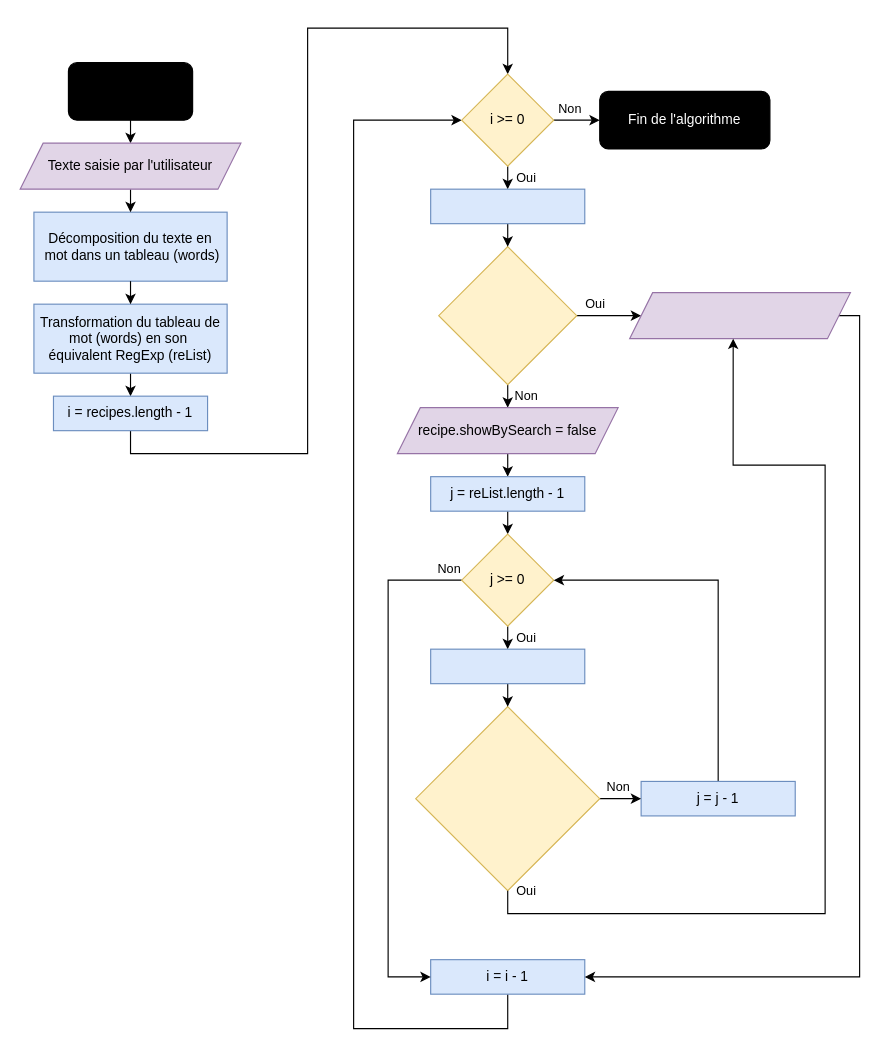
Image size: 889x1058. Some labels were removed from this diagram. The box of each missing label's shape, as (x1, y1, x2, y2) in pixels:
Début: (67, 62, 193, 120)
re = reList[j]: (430, 648, 585, 684)
re valide pour name, description ou au moins pour l'un des ingrédients ?: (415, 706, 600, 891)
recipe = recipes[i]: (430, 188, 585, 224)
recipe.showBySearch = true: (628, 292, 850, 339)
reList.length = 0 ?: (438, 246, 577, 385)
